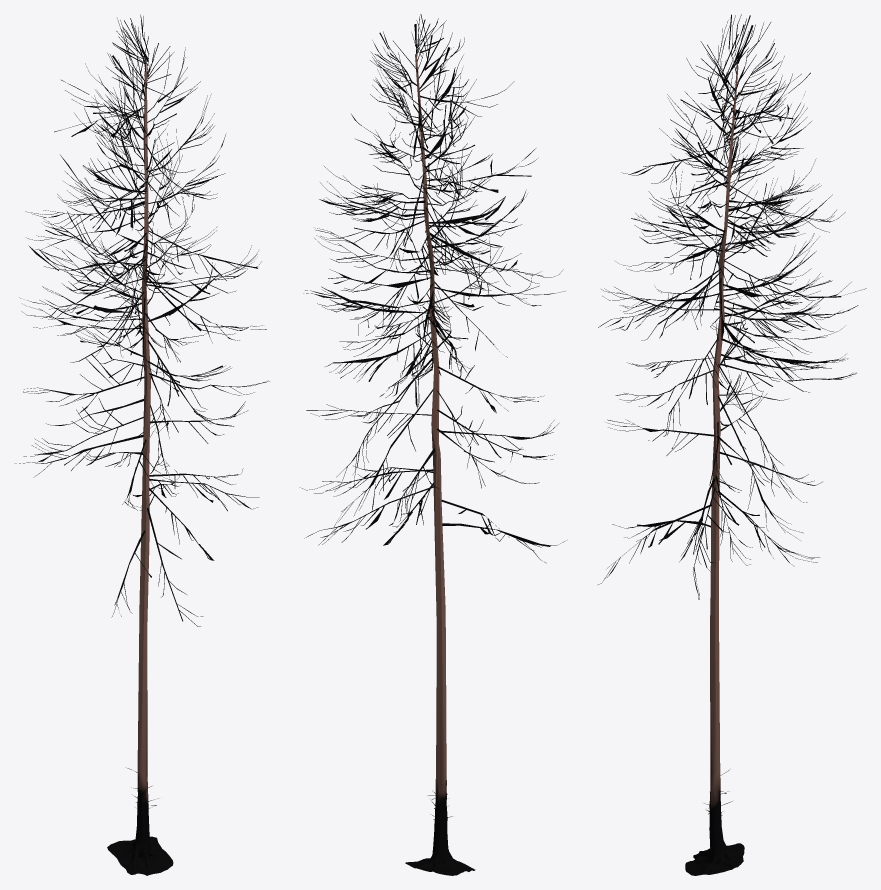
File: fir_tree_01_1k_a.fbx
3 renders of one model, left to right at view 1: azimuth 30°, elevation 25°; view 2: azimuth 150°, elevation 25°; view 3: azimuth 270°, elevation 25°, orthographic. The views are drawn at different scales.
Visible parts, largest first — view 1: fir_tree_01_a; view 2: fir_tree_01_a; view 3: fir_tree_01_a.
Boxes of the visible parts, x1=… form: fir_tree_01_a: x1=15, y1=14, x2=269, y2=875; fir_tree_01_a: x1=300, y1=14, x2=565, y2=875; fir_tree_01_a: x1=598, y1=14, x2=866, y2=875.
Size of the model in its own units: 546 by 1850 by 531.
